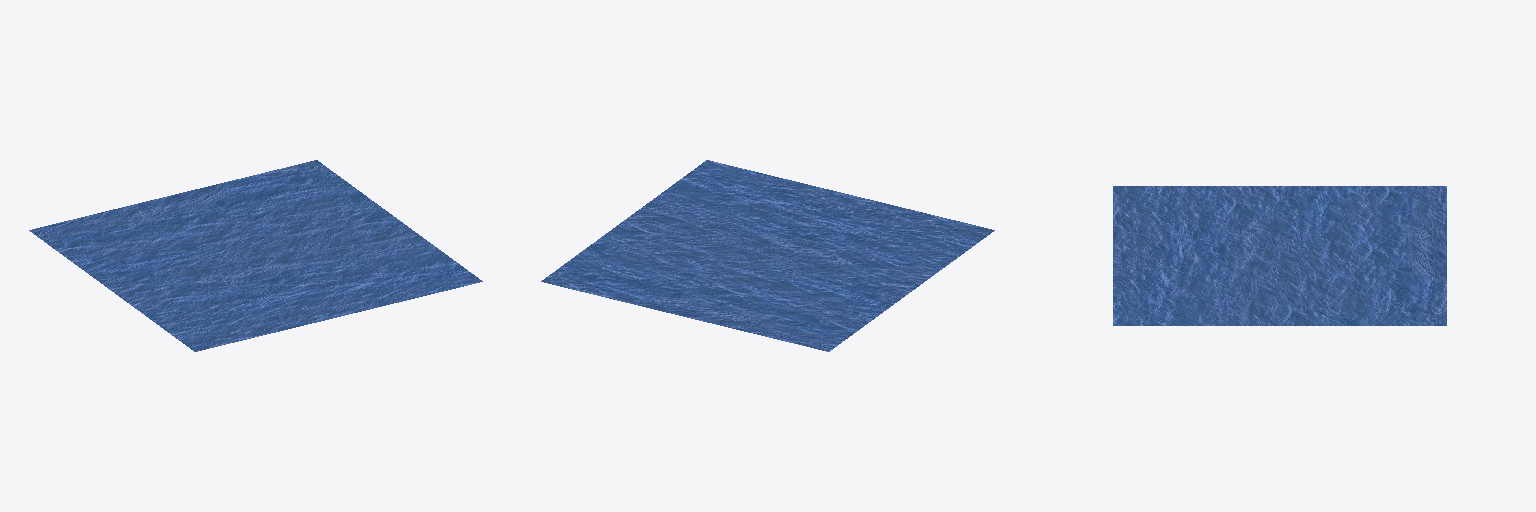
The picture shows the model from 3 angles: view 1: azimuth 30°, elevation 25°; view 2: azimuth 150°, elevation 25°; view 3: azimuth 270°, elevation 25°; orthographic projection.
Size of the model in its own units: 400 by 0 by 400.
1 materials, 1 textured.